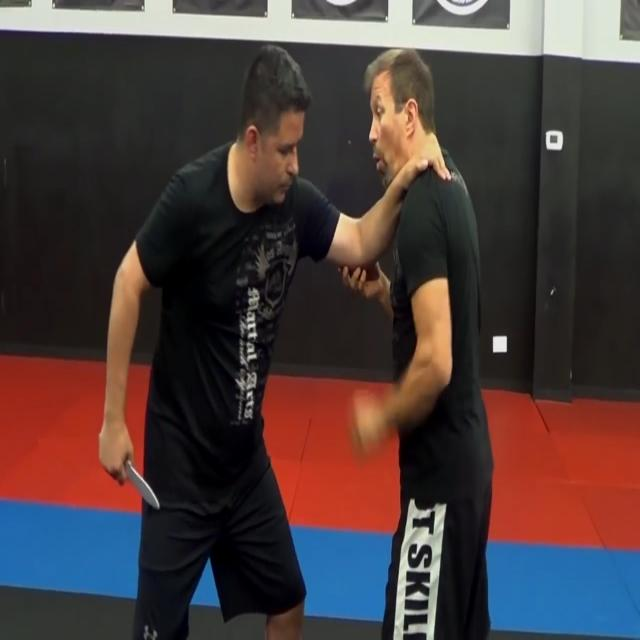knife: (123, 456, 163, 518)
